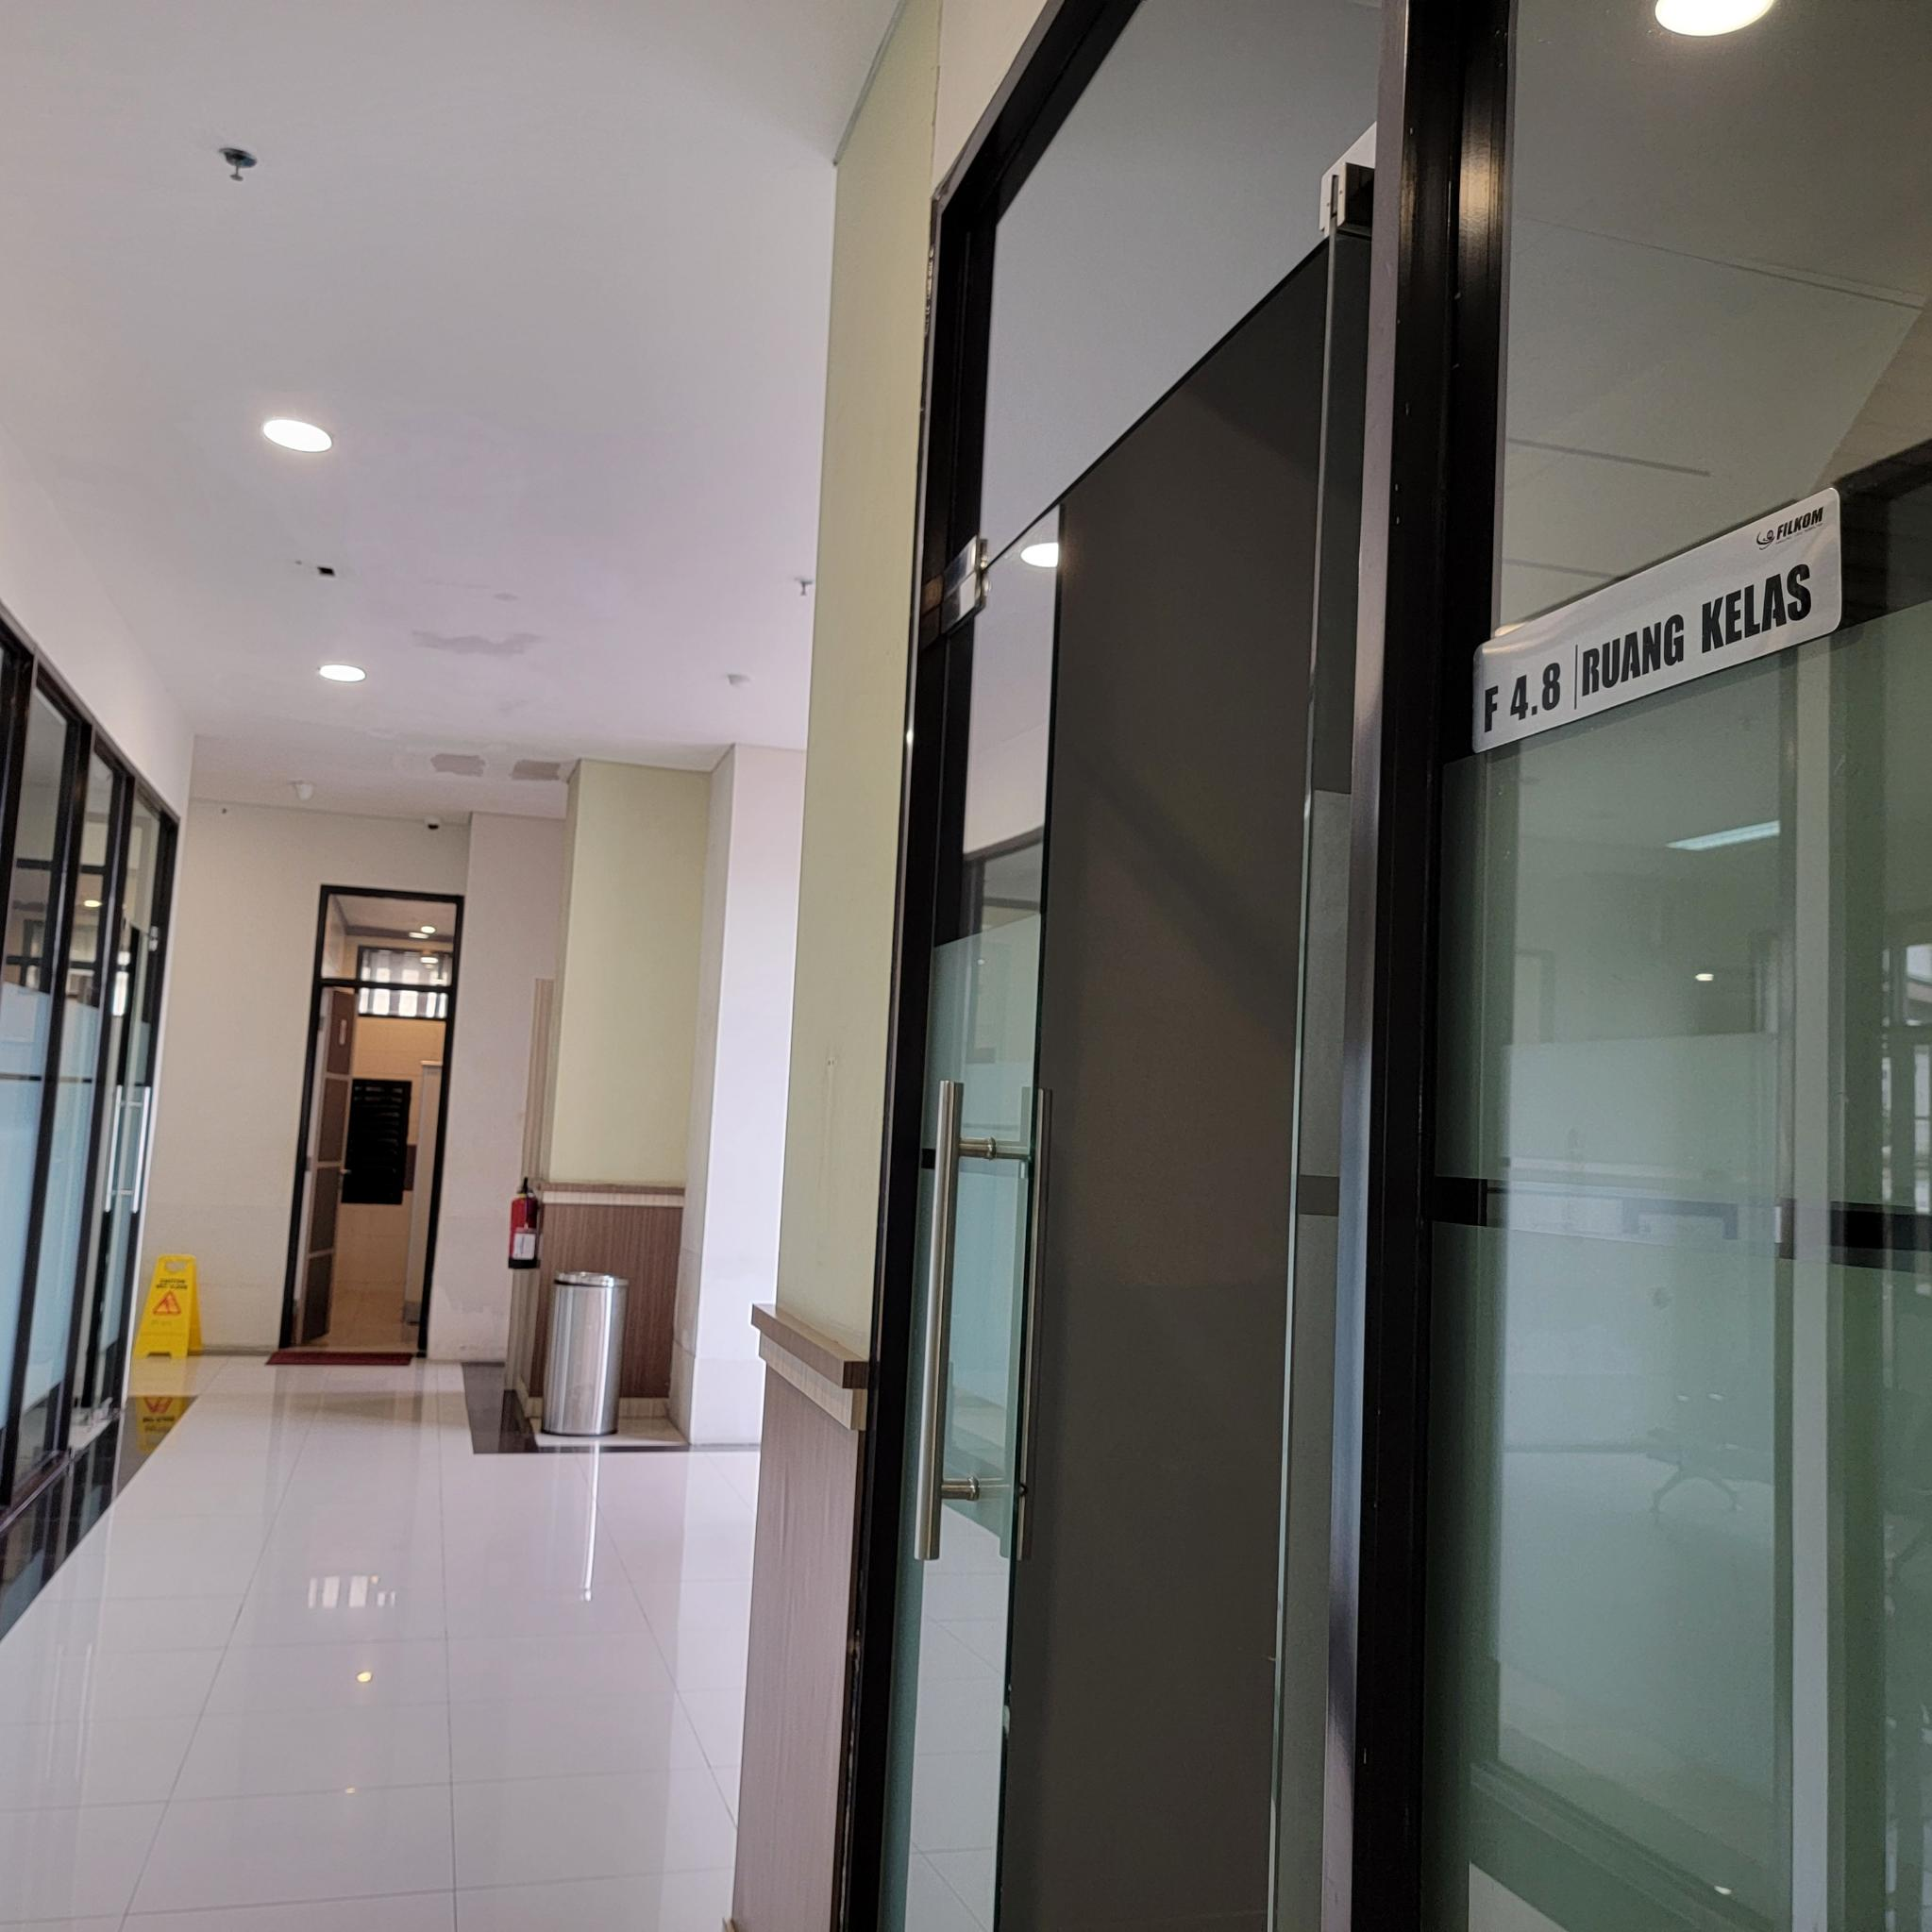plate: (1468, 485, 1845, 755)
